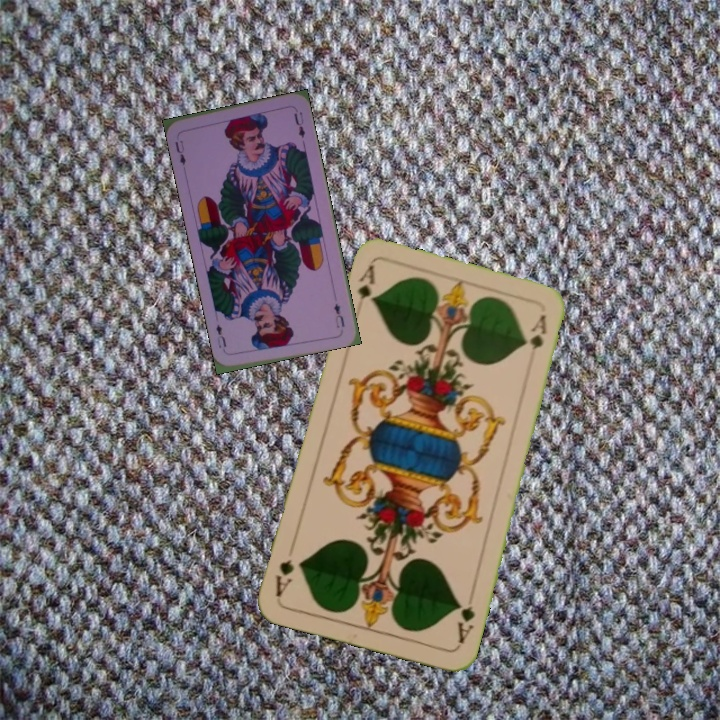EU: (171, 132, 188, 168), (330, 299, 347, 331)
GA: (353, 261, 378, 319), (453, 599, 478, 647)
